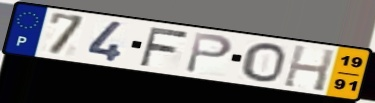4: (85, 19, 127, 64)
7: (48, 10, 87, 57)
F: (137, 25, 192, 68)
H: (281, 43, 338, 93)
O: (240, 41, 288, 84)
P: (183, 31, 235, 75)
